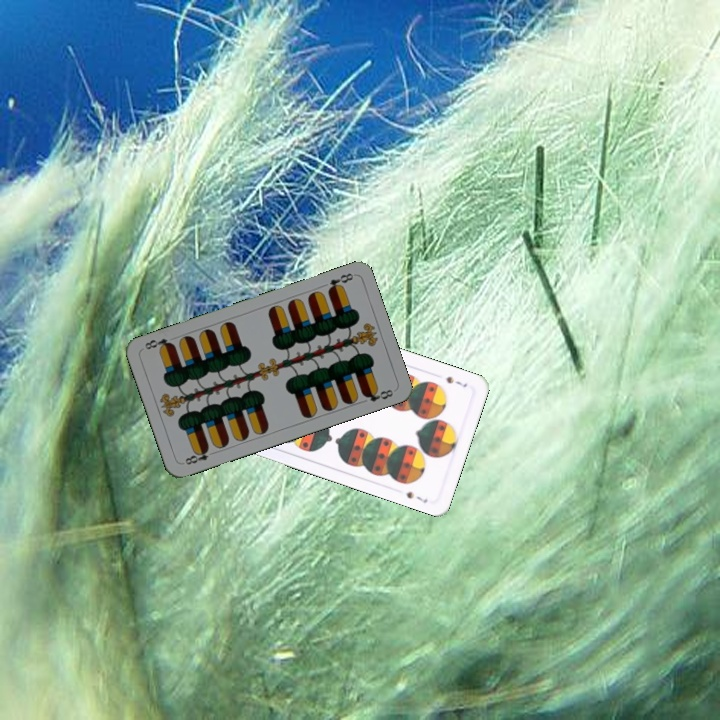E8: (181, 444, 219, 467), (324, 269, 356, 295)
S7: (442, 372, 470, 390)
